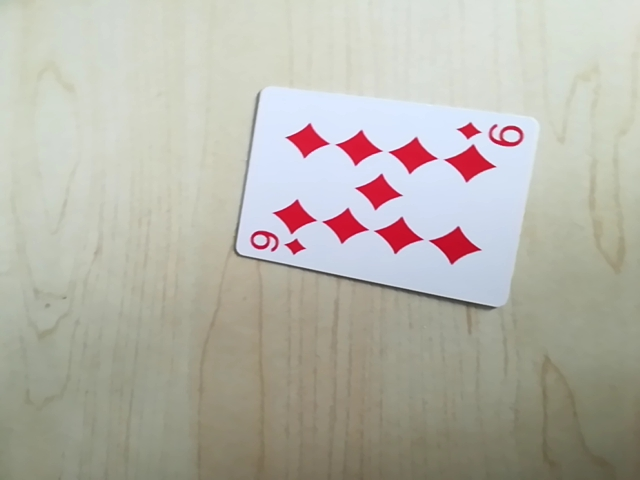fk 9: (455, 117, 528, 150), (243, 229, 307, 260)
